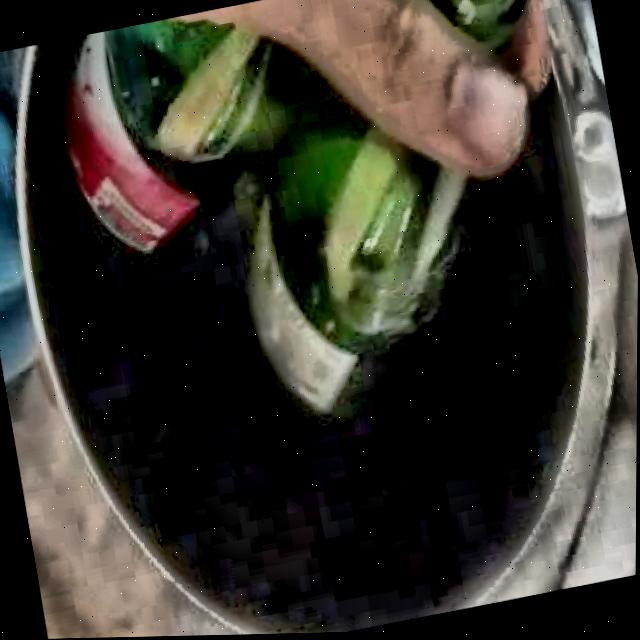glass: (64, 19, 463, 414), (425, 0, 527, 54)
